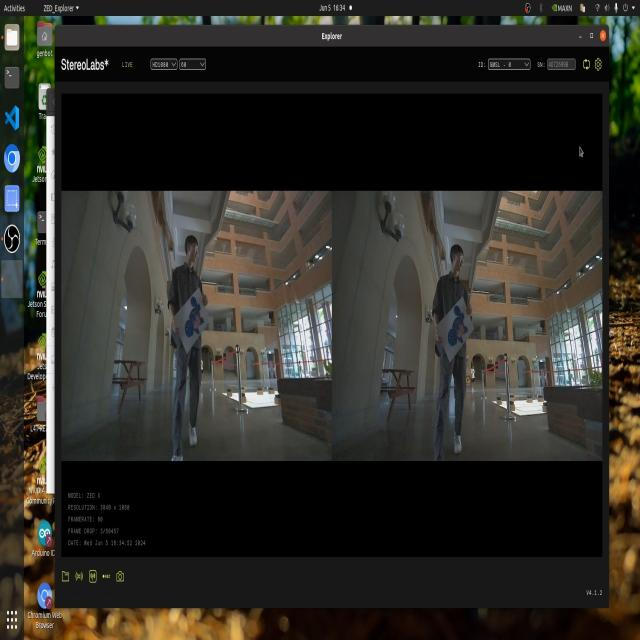blue: (442, 306, 474, 354), (181, 299, 207, 342)
